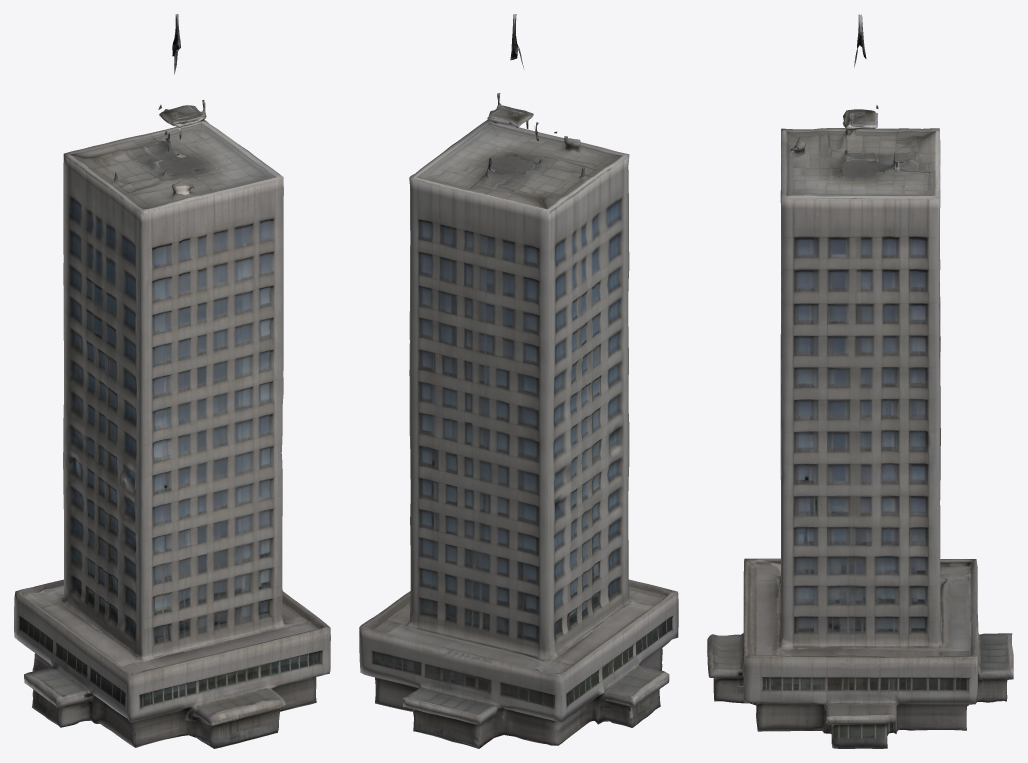
Rendered from soviet_skyscraper__3d_model.glb.
The picture shows the model from 3 angles, left to right: view 1: azimuth 30°, elevation 25°; view 2: azimuth 150°, elevation 25°; view 3: azimuth 270°, elevation 25°; orthographic projection.
Visible parts, largest first — view 1: Object_4; view 2: Object_4; view 3: Object_4.
Part boxes in pixels (bbox=[...]): Object_4: bbox=[14, 14, 330, 748]; Object_4: bbox=[359, 14, 678, 748]; Object_4: bbox=[707, 14, 1013, 748].
Bounding box in the file's own units: 0.7993 × 1.93 × 0.7948.
1 material, 1 textured.
